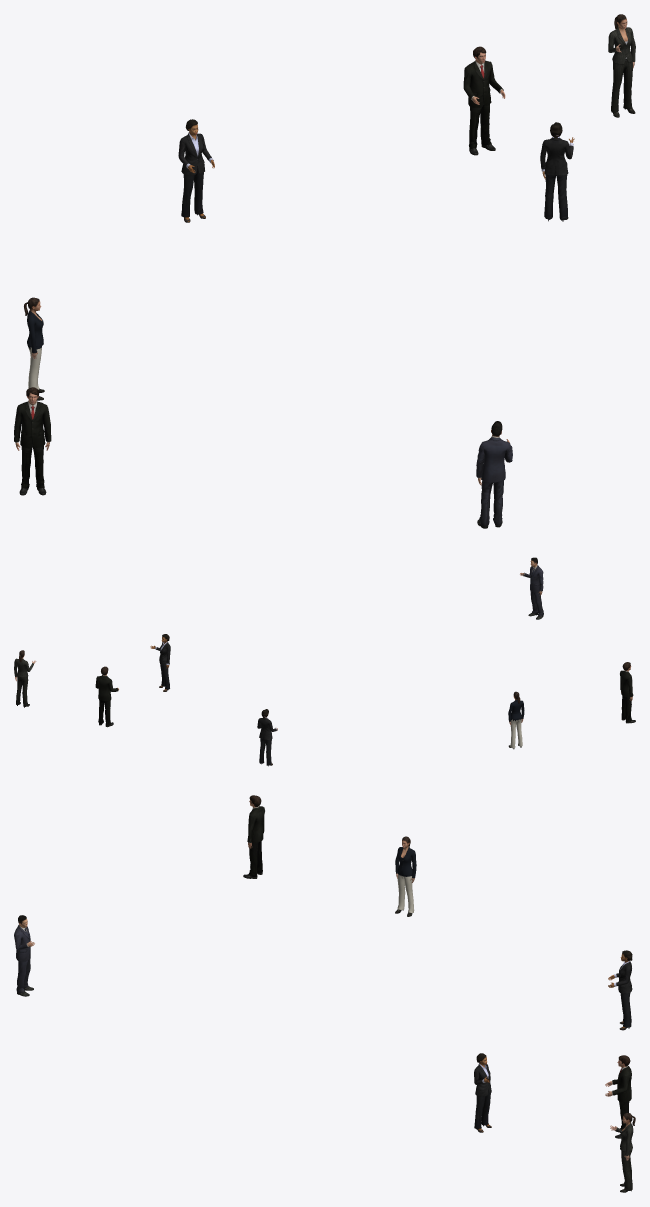
Rendered from grand-pillar-visitors.glb.
The picture shows the model from 3 angles, top to bottom: view 1: azimuth 30°, elevation 25°; view 2: azimuth 150°, elevation 25°; view 3: azimuth 270°, elevation 25°; orthographic projection. The views are drawn at different scales.
Parts seen in each view (by area): view 1: Rocketbox | Business_Male_01 | body, Rocketbox | Business_Female_01 | body, Rocketbox | Business_Female_04 | body, Rocketbox | Business_Male_02 | body; view 2: Rocketbox | Business_Male_01 | body, Rocketbox | Business_Female_04 | body, Rocketbox | Business_Female_01 | body, Rocketbox | Business_Male_02 | body; view 3: Rocketbox | Business_Female_04 | body, Rocketbox | Business_Male_01 | body, Rocketbox | Business_Female_01 | body, Rocketbox | Business_Male_02 | body.
Boxes of the visible parts, bbox=[...] form: Rocketbox | Business_Male_01 | body: bbox=[14, 46, 505, 495]; Rocketbox | Business_Female_01 | body: bbox=[178, 119, 574, 222]; Rocketbox | Business_Female_04 | body: bbox=[24, 14, 635, 400]; Rocketbox | Business_Male_02 | body: bbox=[476, 421, 512, 528]; Rocketbox | Business_Male_01 | body: bbox=[95, 662, 635, 727]; Rocketbox | Business_Female_04 | body: bbox=[14, 650, 524, 749]; Rocketbox | Business_Female_01 | body: bbox=[150, 634, 277, 766]; Rocketbox | Business_Male_02 | body: bbox=[520, 557, 543, 619]; Rocketbox | Business_Female_04 | body: bbox=[395, 836, 635, 1192]; Rocketbox | Business_Male_01 | body: bbox=[243, 795, 631, 1138]; Rocketbox | Business_Female_01 | body: bbox=[474, 950, 632, 1132]; Rocketbox | Business_Male_02 | body: bbox=[14, 915, 34, 996].
Size of the model in its own units: 15.46 by 1.78 by 12.54.
Materials: 14 (12 with a texture image).
